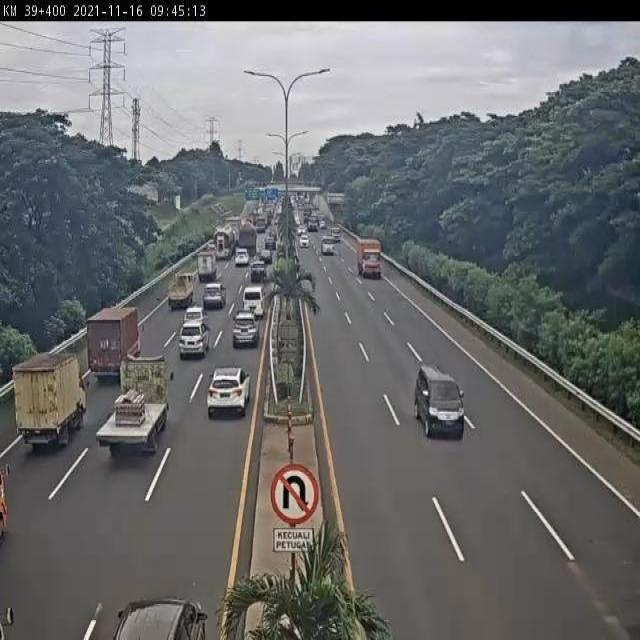Car: (414, 364, 468, 440), (112, 597, 207, 640), (207, 366, 251, 418), (178, 317, 211, 358), (232, 310, 260, 348), (202, 282, 226, 310), (184, 304, 208, 329), (250, 258, 266, 282), (234, 250, 248, 266), (260, 247, 272, 265), (265, 233, 276, 250), (299, 234, 309, 248), (297, 226, 306, 237), (208, 240, 215, 251), (319, 220, 326, 230)
Truck: (12, 350, 91, 450), (96, 355, 174, 454), (84, 305, 145, 385), (167, 270, 196, 310), (356, 238, 384, 278), (213, 225, 237, 262), (196, 249, 218, 283), (238, 220, 258, 256), (224, 216, 242, 236), (320, 235, 335, 256), (254, 215, 267, 234), (302, 208, 313, 225), (307, 216, 318, 232), (330, 227, 341, 241)
Van: (242, 284, 265, 320)
